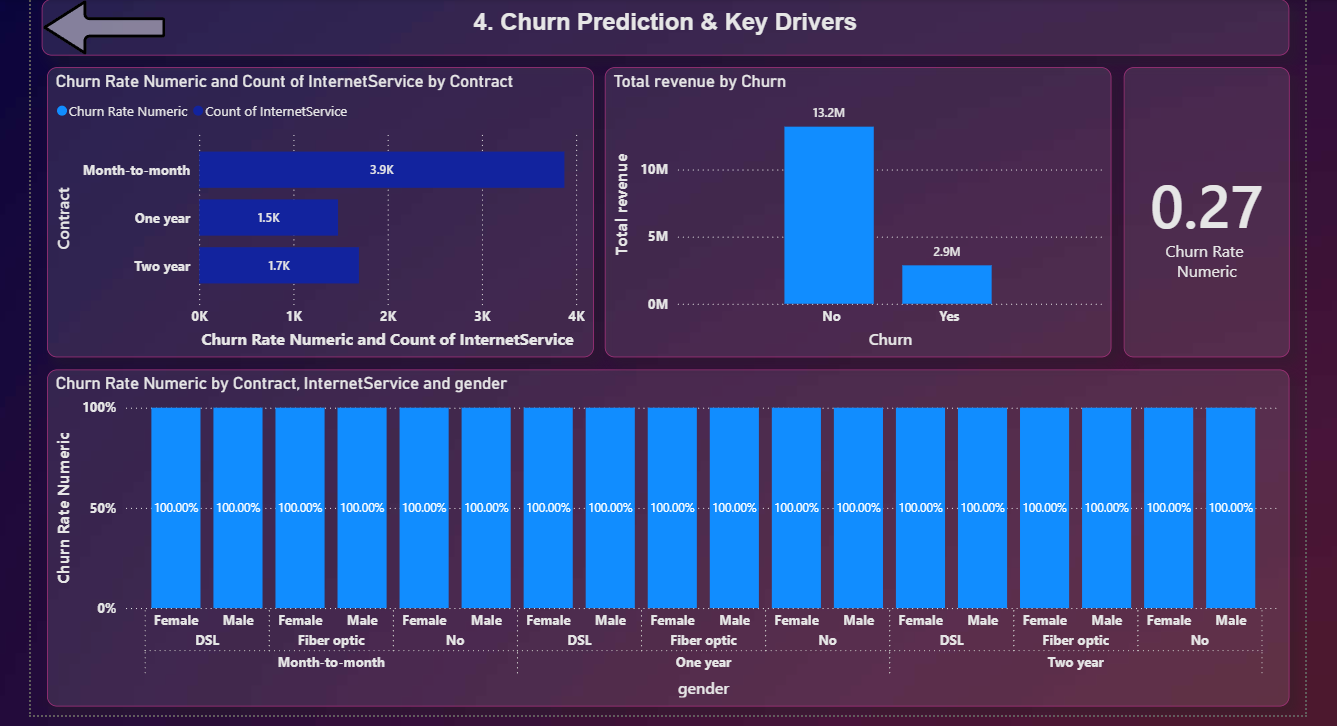

What the dashboard file says about the page in this screenshot:
{"tool":"powerbi","page":{"name":"Page 4","canvas":[1280,720],"ordinal":3},"visuals":[{"type":"textbox","box":[10.8,0,1254.1,56.5],"z":0},{"type":"card","fields":{"Values":["cca data set.Churn Rate Numeric"]},"box":[1098.2,68.6,166.7,291.7],"z":1000},{"type":"barChart","fields":{"Y":["cca data set.Churn Rate Numeric","CountNonNull(cca data set.InternetService)"],"Category":["cca data set.Contract","cca data set.PaymentMethod"]},"box":[16.1,68.6,549.8,291.7],"z":2000},{"type":"hundredPercentStackedColumnChart","fields":{"Category":["cca data set.Contract","cca data set.InternetService","cca data set.gender"],"Y":["cca data set.Churn Rate Numeric"]},"box":[16.1,372.3,1248.7,338.7],"z":3000},{"type":"columnChart","fields":{"Category":["cca data set.Churn"],"Y":["cca data set.Total revenue"]},"box":[576.7,68.6,509.4,291.7],"z":4000},{"type":"shape","box":[10.2,0,124.4,57.1],"z":5000}]}

Visuals, with their boxes on the page's 1280x720 design canvas (x1, y1, x2, y2). These are canvas units, not pixel positions in the 1337x726 screenshot, which may show the page scaled, cropped or inside an application window:
textbox: (11,0,1265,56)
card - cca data set.Churn Rate Numeric: (1098,69,1265,360)
barChart - cca data set.Churn Rate Numeric x CountNonNull(cca data set.InternetService): (16,69,566,360)
hundredPercentStackedColumnChart - cca data set.Contract x cca data set.InternetService: (16,372,1265,711)
columnChart - cca data set.Churn x cca data set.Total revenue: (577,69,1086,360)
shape: (10,0,135,57)
